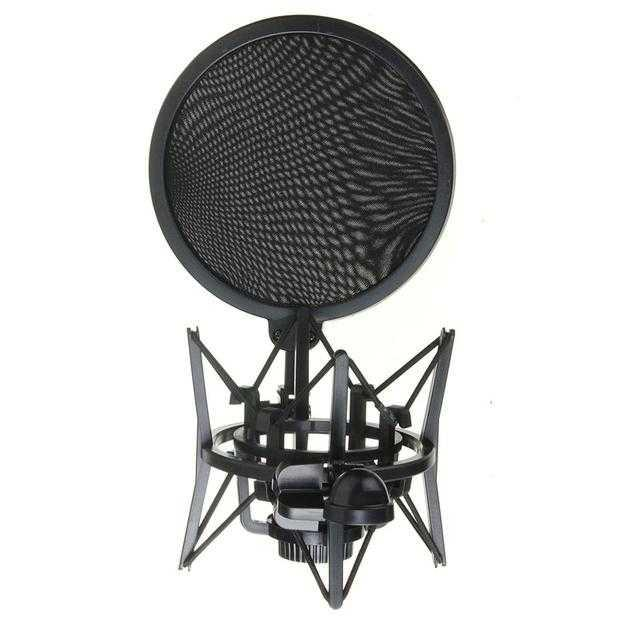microphone: (156, 0, 466, 409)
